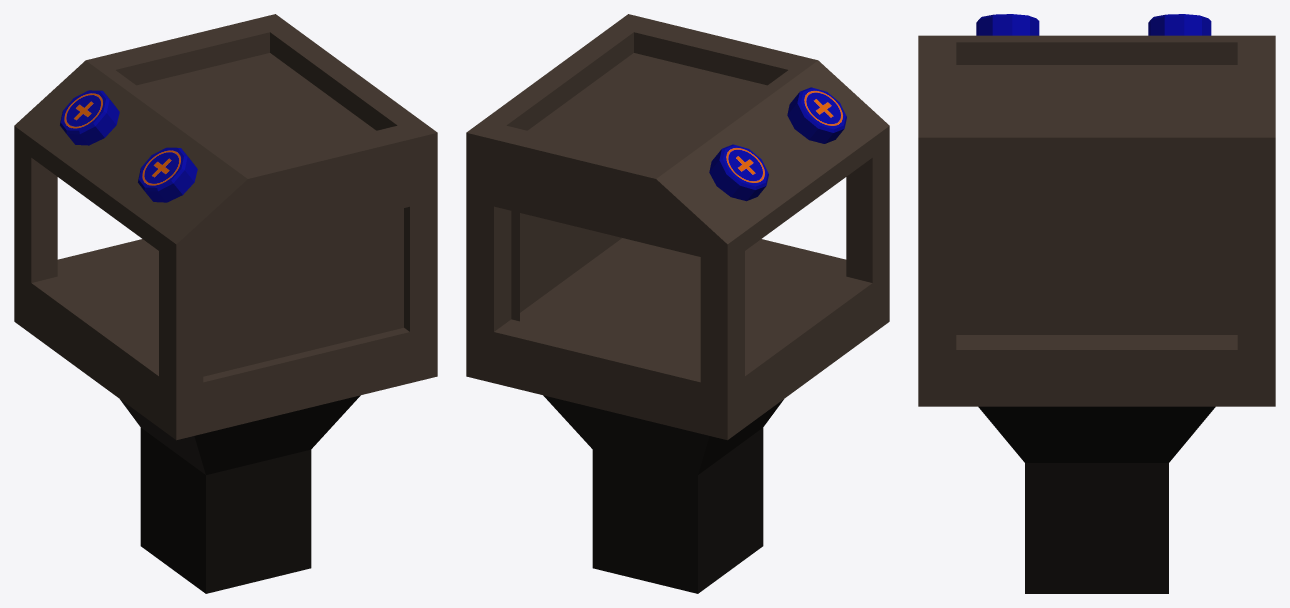
Rendered from BridgeL_Bottom_01E.FBX.
3 renders of one model, left to right at view 1: azimuth 30°, elevation 25°; view 2: azimuth 150°, elevation 25°; view 3: azimuth 270°, elevation 25°, orthographic. The views are drawn at different scales.
Parts seen in each view (by area): view 1: Object020; view 2: Object020; view 3: Object020.
Part boxes in pixels (bbox=[...]): Object020: bbox=[14, 14, 437, 593]; Object020: bbox=[466, 14, 889, 593]; Object020: bbox=[918, 14, 1275, 593].
Size of the model in its own units: 15.32 by 25.66 by 16.46.
